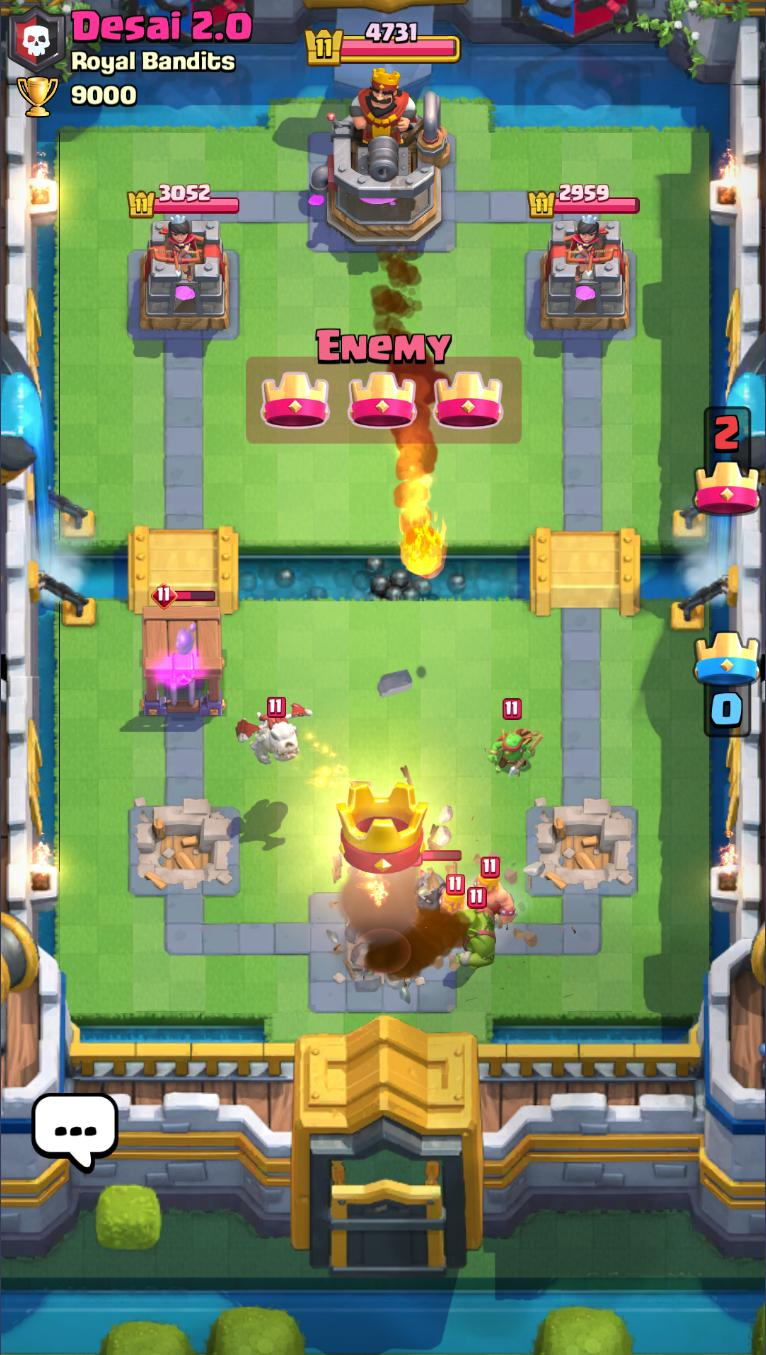Barbarian: (468, 853, 516, 926), (434, 875, 472, 921)
EnemyTower: (137, 214, 231, 333), (538, 214, 632, 331)
EvoGoblinCage: (142, 578, 227, 716)
FireBall: (399, 522, 447, 579)
GoblinCageGoblin: (453, 887, 500, 973)
KingTower: (309, 80, 454, 248)
KingTowerHP: (304, 27, 462, 65)
MiniPekka: (405, 848, 463, 913)
MyKingTowerBrocken: (313, 857, 455, 1011)
MyPrincessTowerBrocken: (126, 799, 242, 904), (523, 797, 639, 899)
PrincessTower: (549, 214, 604, 275), (152, 214, 202, 273)
SkeletonDragon: (233, 695, 314, 772)
SpearGoblin: (486, 697, 536, 775)
TowerPrincessHP: (127, 182, 241, 219), (527, 183, 640, 218)
